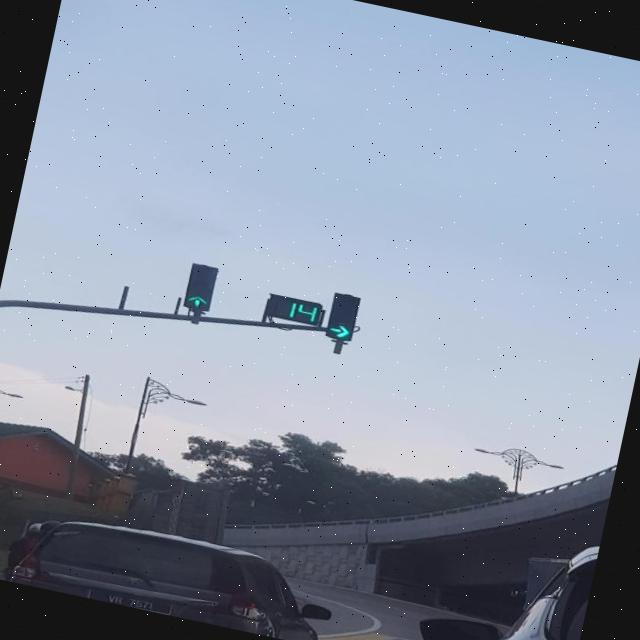green_light: (181, 262, 219, 313), (324, 291, 361, 342)
